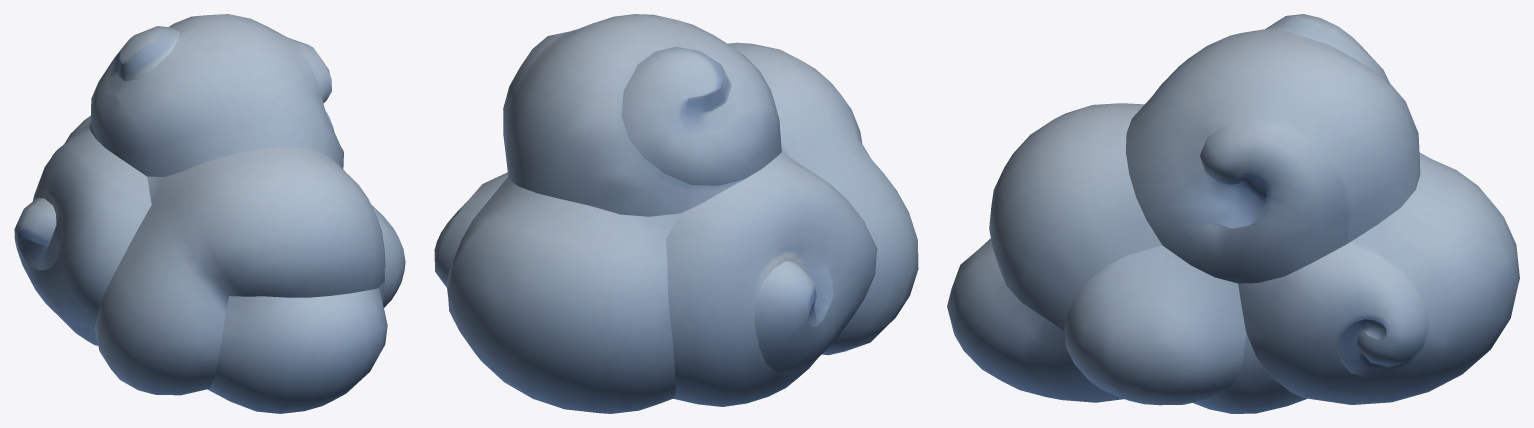
File: brock-zeus_cloud.glb
3 views of the same model, side by side, from view 1: azimuth 30°, elevation 25°; view 2: azimuth 150°, elevation 25°; view 3: azimuth 270°, elevation 25° (orthographic). The views are drawn at different scales.
Parts seen in each view (by area): view 1: Cloud; view 2: Cloud; view 3: Cloud.
Part boxes in pixels (left/top/right/bottom): Cloud: left=14, top=14, right=405, bottom=413; Cloud: left=434, top=14, right=918, bottom=413; Cloud: left=947, top=14, right=1519, bottom=413.
Bounding box in the file's own units: 0.457 × 0.4428 × 0.64.
Materials: 1 (1 with a texture image).
